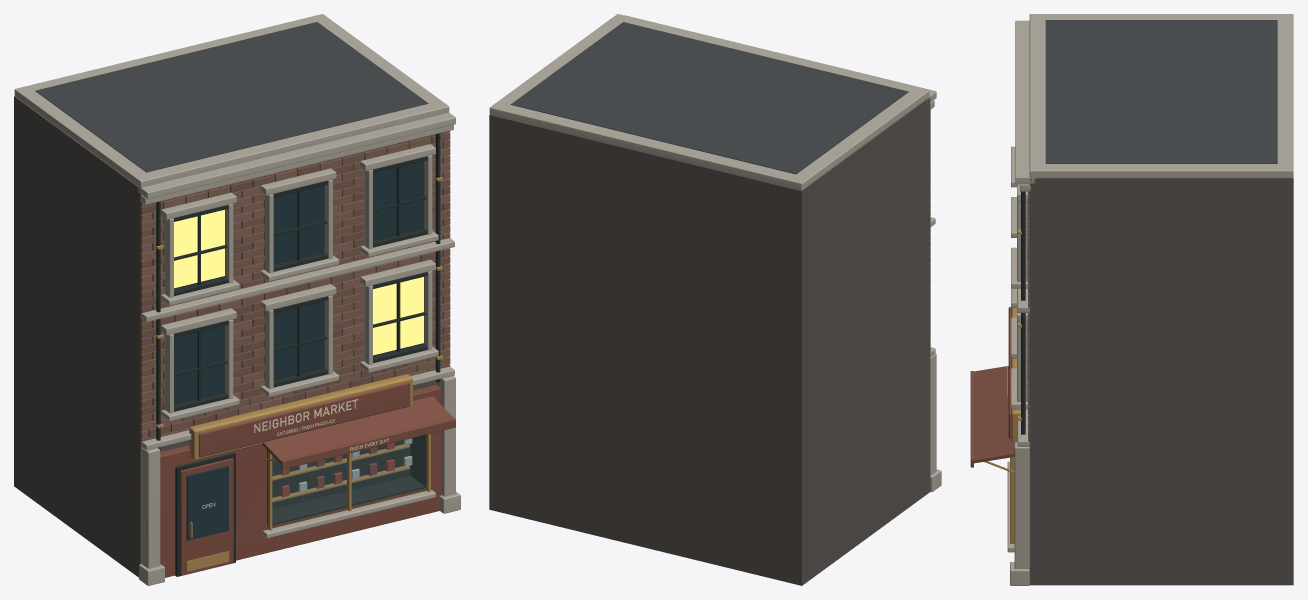
The model's file is district-neighbor-market.glb.
3 views of the same model, side by side, from view 1: azimuth 30°, elevation 25°; view 2: azimuth 150°, elevation 25°; view 3: azimuth 270°, elevation 25° (orthographic). The views are drawn at different scales.
Parts seen in each view (by area): view 1: Existing envelope, District Warm limestone, District Roof membrane, District Charcoal painted metal, District Coffee enamel, District Opaque dark glazing, Roof cap, District Shop window clear glazing, District Brick tone 0, District Brick tone 3, District Warm occupied window, District Brick tone 4 (+7 smaller); view 2: Existing envelope, District Roof membrane, Roof cap, District Warm limestone; view 3: Existing envelope, District Roof membrane, Roof cap, District Warm limestone, District Coffee enamel, District Charcoal painted metal, District Aged brass.
Boxes of the visible parts, x1,y1,x2,y2 form: Existing envelope: (14,96,449,577); District Warm limestone: (138,113,460,585); District Roof membrane: (35,22,428,172); District Charcoal painted metal: (156,133,440,576); District Coffee enamel: (160,385,455,577); District Opaque dark glazing: (174,161,423,540); Roof cap: (14,14,449,187); District Shop window clear glazing: (272,435,425,525); District Brick tone 0: (141,138,450,441); District Brick tone 3: (141,137,450,420); District Warm occupied window: (174,209,423,355); District Brick tone 4: (141,131,450,438); Existing envelope: (489,97,930,585); District Roof membrane: (510,22,908,174); Roof cap: (489,14,929,190); District Warm limestone: (624,15,941,491); Existing envelope: (1029,178,1293,585); District Roof membrane: (1045,20,1277,163); Roof cap: (1029,14,1293,178); District Warm limestone: (1007,20,1035,585); District Coffee enamel: (970,366,1017,467); District Charcoal painted metal: (1021,191,1027,434); District Aged brass: (984,229,1021,543).
Bounding box in the file's own units: 7.71 × 9.36 × 6.62.
